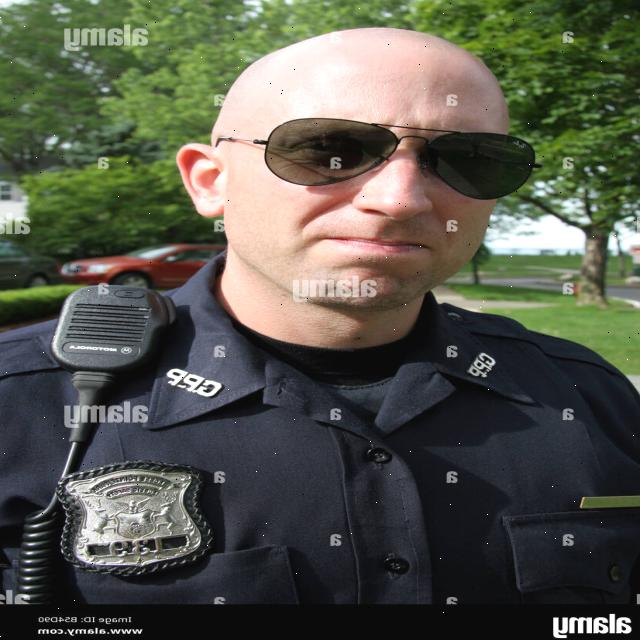police: (13, 0, 640, 601)
